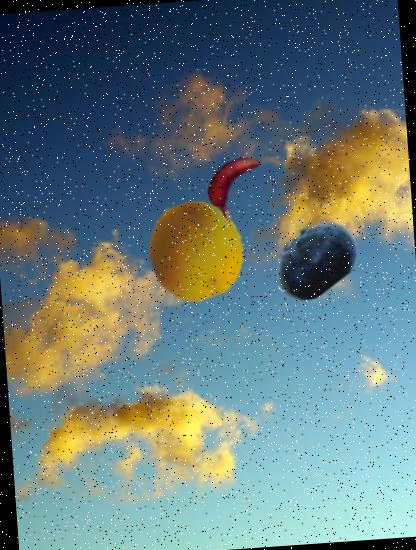Banana: (196, 146, 269, 218)
Blueberry: (266, 212, 363, 308)
Peach: (141, 196, 250, 304)
